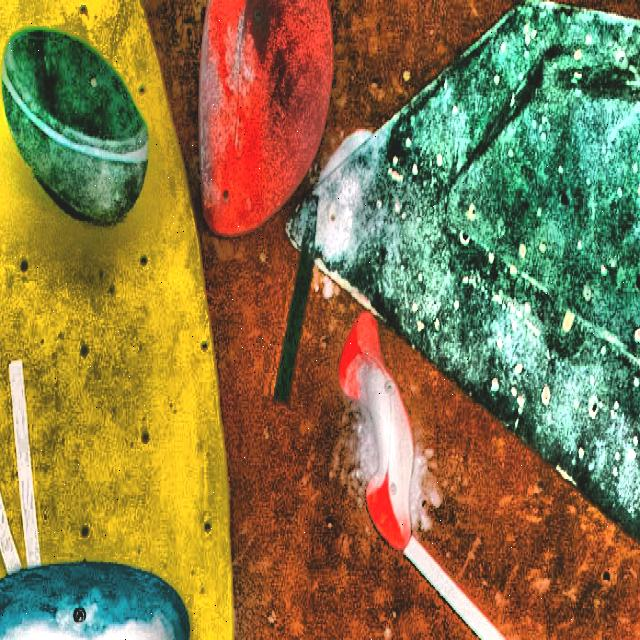Hold: (200, 0, 333, 235), (1, 28, 148, 225), (338, 313, 413, 550), (0, 562, 189, 640)
Volume: (285, 0, 640, 536)
start_tag: (274, 212, 316, 403), (8, 361, 40, 566), (0, 491, 20, 573)
